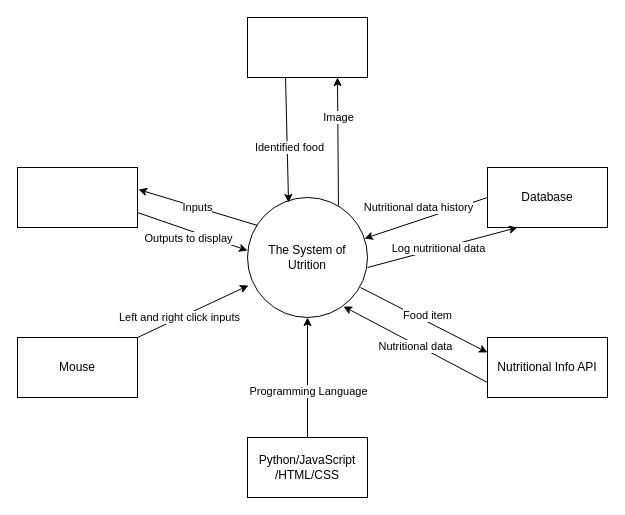
The diagram is 625 pixels wide and 515 high, and some of its shapes have lost their labels. Each missing label, with the centre of its shape:
"Graphical User Interface (GUI)" goes at point 77,197.
"Image Classification Machine Learning Models" goes at point 307,47.
